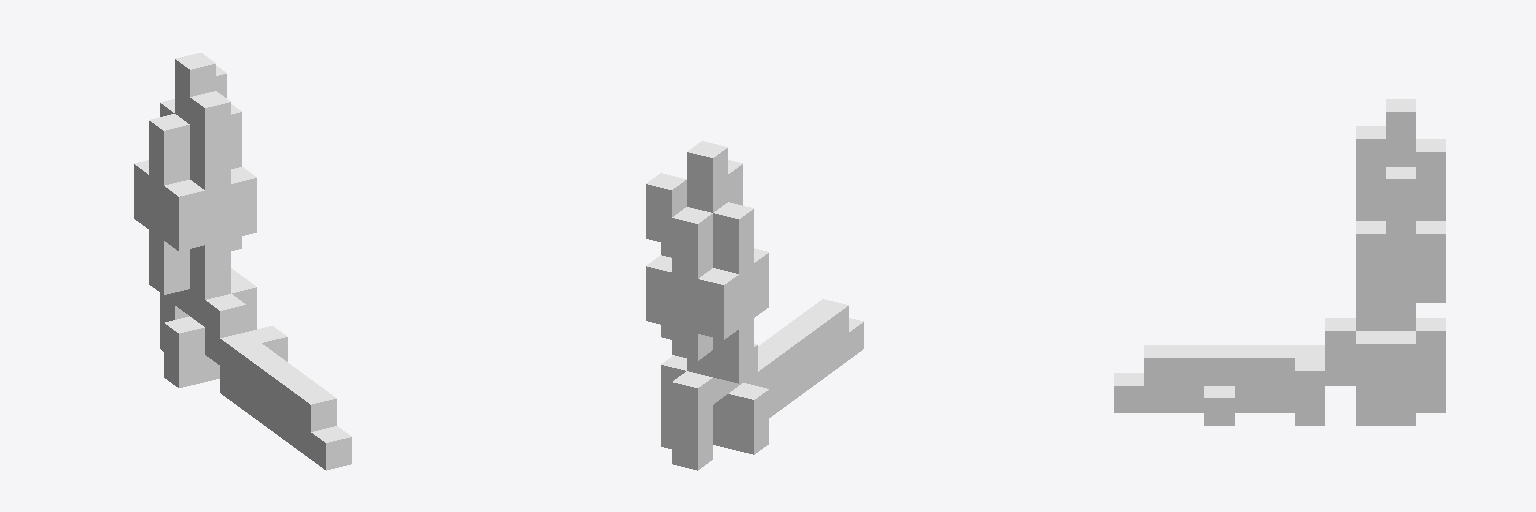
File: HandHold.obj
The picture shows the model from 3 angles: view 1: azimuth 30°, elevation 25°; view 2: azimuth 150°, elevation 25°; view 3: azimuth 270°, elevation 25°; orthographic projection.
Parts seen in each view (by area): view 1: Stairs; view 2: Stairs; view 3: Stairs.
Boxes of the visible parts, x1,y1,x2,y2 form: Stairs: [134, 53, 351, 470]; Stairs: [646, 141, 863, 470]; Stairs: [1114, 99, 1445, 425].
Bounding box in the file's own units: 0.3 × 1.1 × 1.1.